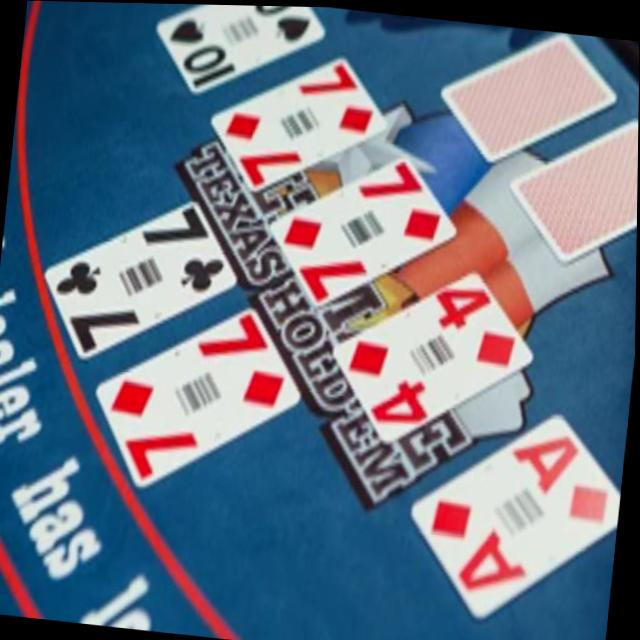Card-10: (155, 4, 325, 92)
Card-4: (335, 265, 533, 439)
Card-7: (97, 304, 301, 486), (45, 196, 236, 359), (271, 156, 457, 305), (211, 51, 385, 192)
Card-A: (411, 405, 621, 616)
